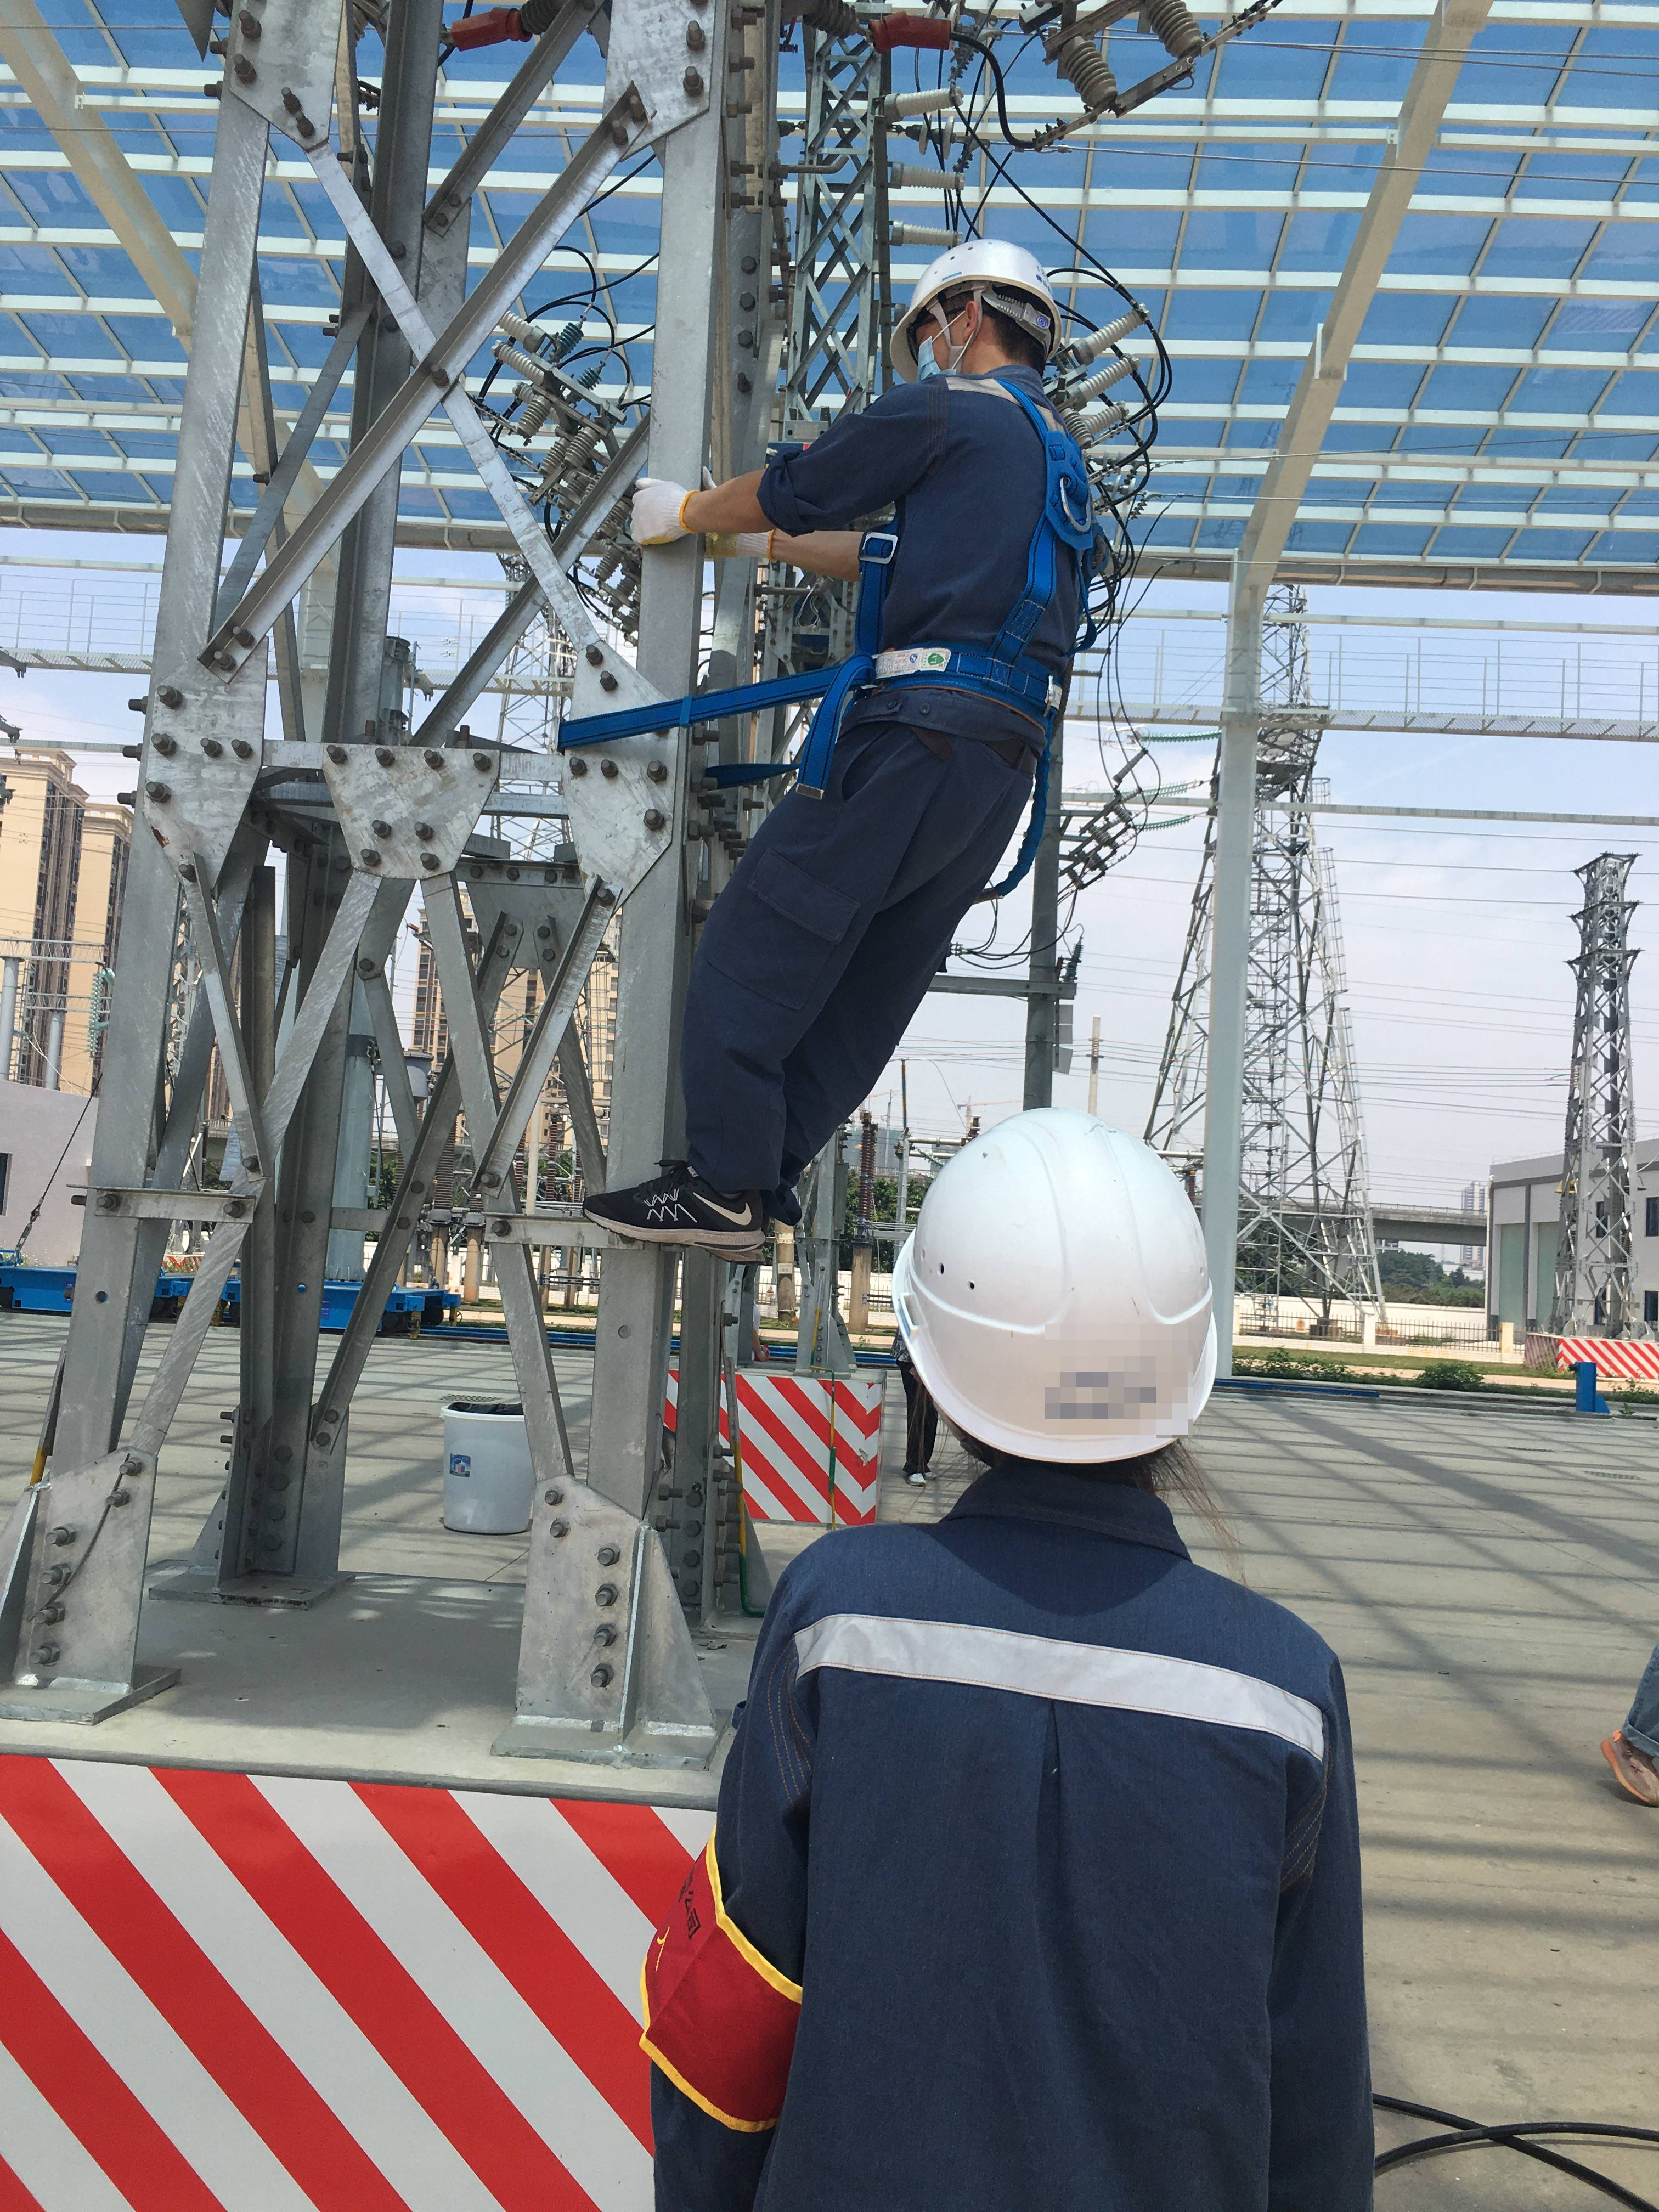downsuit: (662, 732, 1063, 1211)
upsuit: (655, 1470, 1387, 2203), (767, 352, 1105, 672)
wrongtop: (660, 463, 882, 592)
